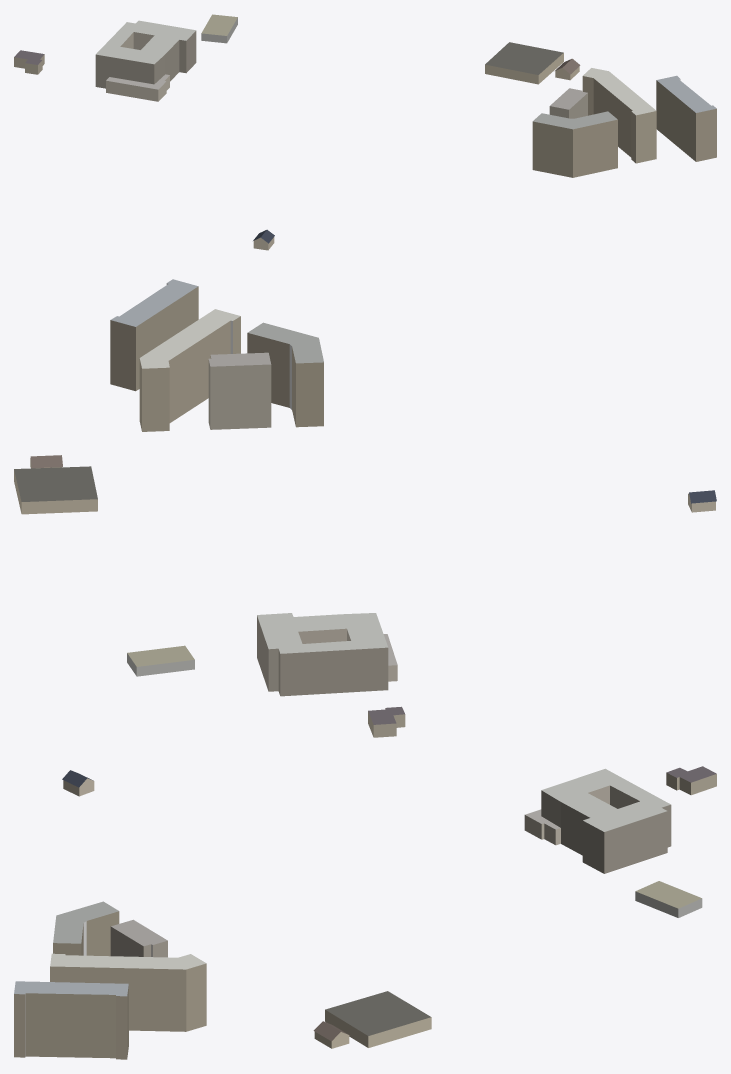
3 renders of one model, top to bottom at view 1: azimuth 30°, elevation 25°; view 2: azimuth 150°, elevation 25°; view 3: azimuth 270°, elevation 25°, orthographic. The views are drawn at different scales.
Parts seen in each view (by area): view 1: tuile; view 2: tuile; view 3: tuile.
Part boxes in pixels (box(x1,y1,x2,y2)): tuile: box(14, 14, 716, 250); tuile: box(14, 279, 716, 737); tuile: box(14, 766, 716, 1059).
Size of the model in its own units: 246 by 27 by 261.
